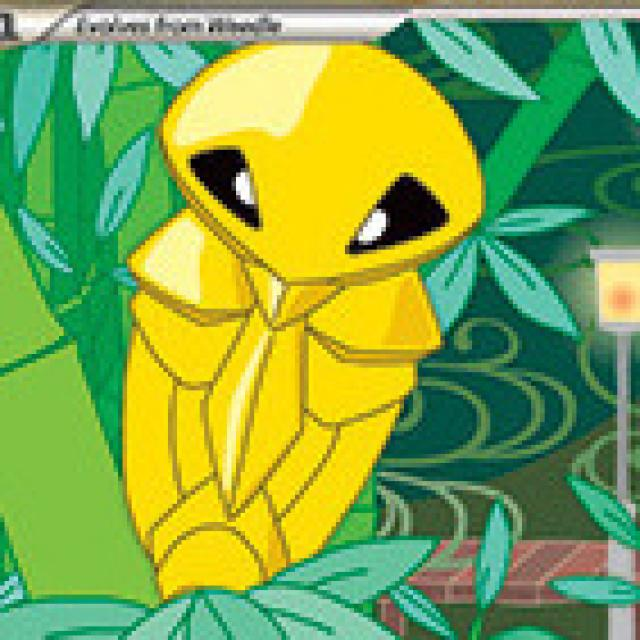Kakuna: (123, 48, 487, 601)
